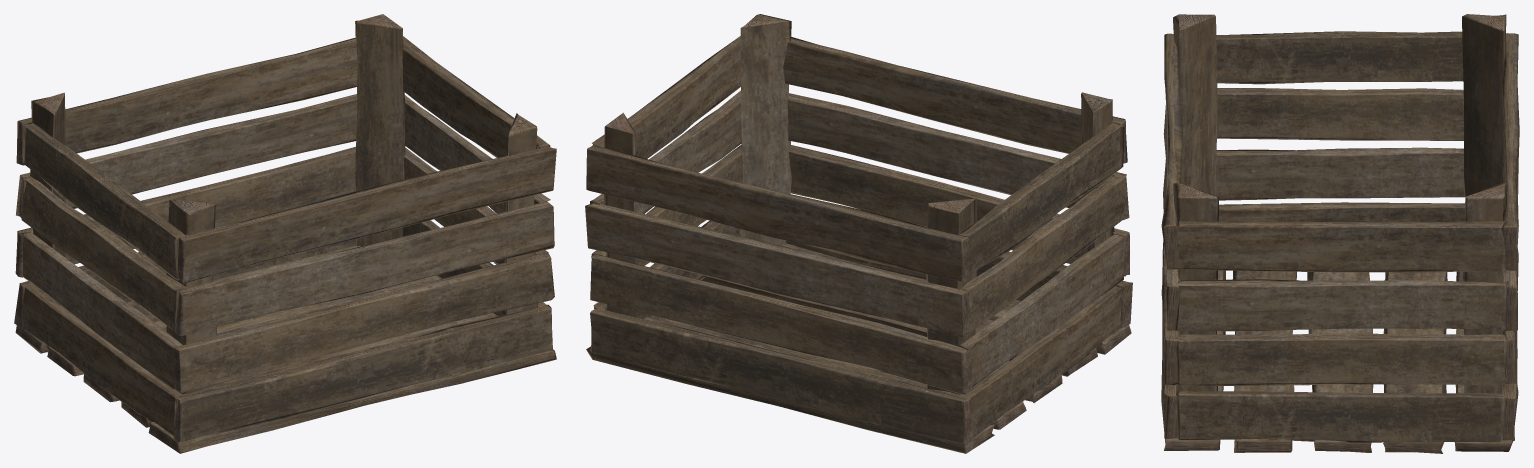
The model's file is SM_Crate_A.fbx.
3 views of the same model, side by side, from view 1: azimuth 30°, elevation 25°; view 2: azimuth 150°, elevation 25°; view 3: azimuth 270°, elevation 25° (orthographic). The views are drawn at different scales.
Visible parts, largest first — view 1: SM_Crate_A_LOD0; view 2: SM_Crate_A_LOD0; view 3: SM_Crate_A_LOD0.
Part boxes in pixels (box(x1,y1,x2,y2)): SM_Crate_A_LOD0: box(14, 14, 556, 453); SM_Crate_A_LOD0: box(585, 14, 1132, 453); SM_Crate_A_LOD0: box(1161, 14, 1519, 453).
Size of the model in its own units: 78.39 by 59.57 by 46.15.
Materials: 1 (1 with a texture image).
